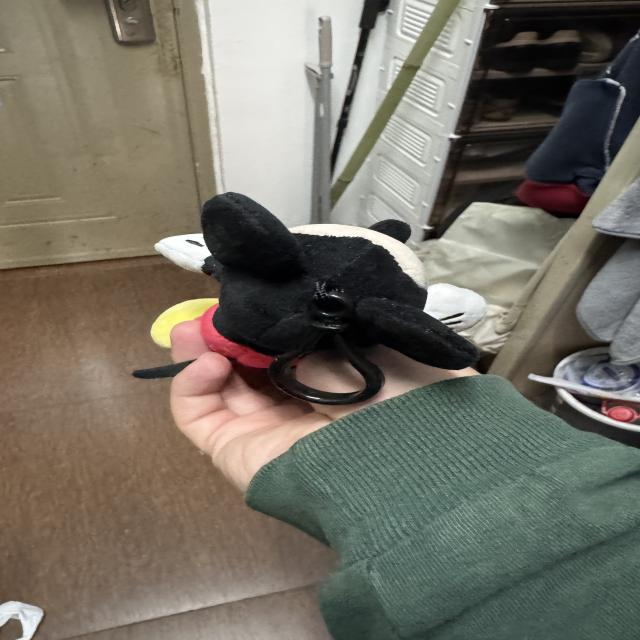mickey: (153, 193, 477, 403)
